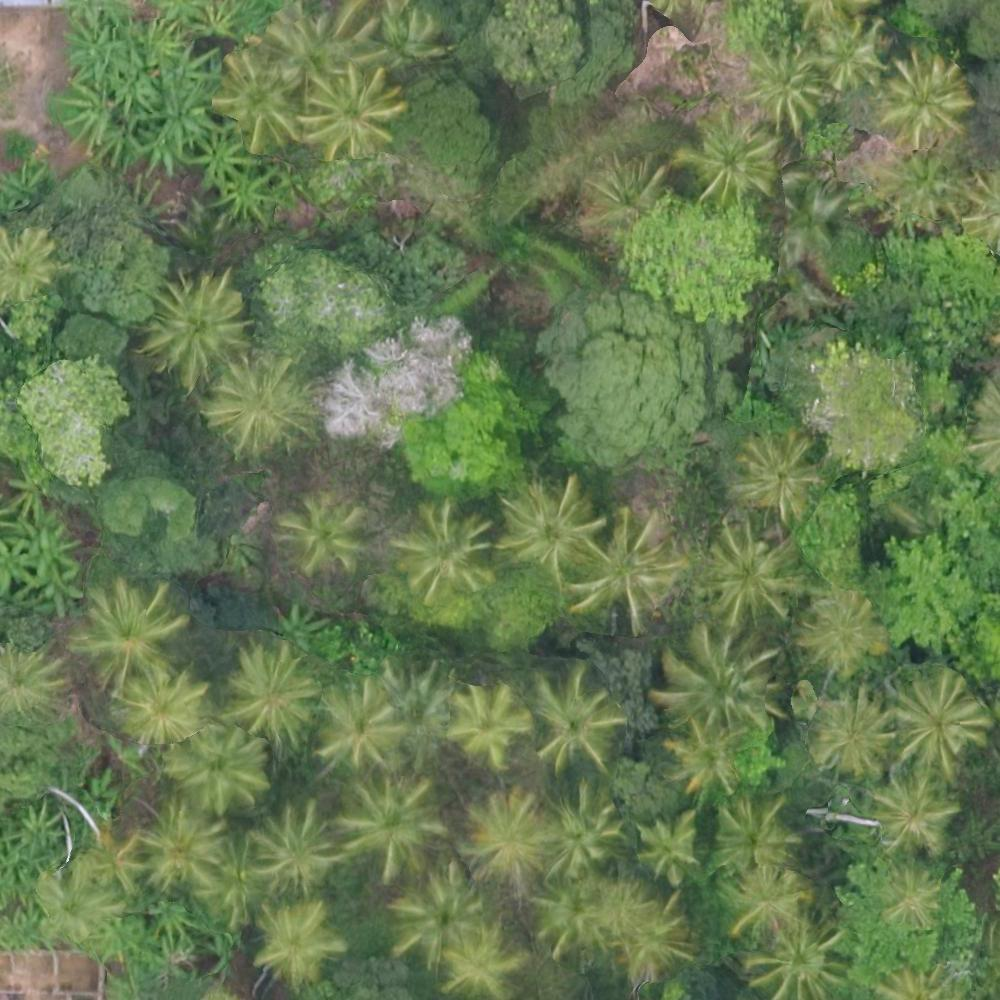Palm: (655, 624, 779, 733), (575, 510, 683, 625), (703, 517, 810, 623), (143, 271, 246, 380), (80, 579, 180, 683), (530, 663, 627, 768), (209, 354, 308, 456), (893, 667, 991, 767), (397, 500, 496, 598), (748, 907, 853, 999), (342, 778, 444, 872), (501, 478, 597, 576), (302, 64, 398, 161), (213, 51, 310, 147), (226, 643, 317, 739), (395, 868, 485, 965), (687, 114, 782, 204), (883, 49, 969, 142), (170, 723, 263, 807), (254, 901, 345, 986), (464, 789, 557, 871), (143, 802, 229, 890), (732, 429, 818, 517), (252, 802, 335, 891), (446, 682, 529, 771), (745, 45, 828, 132), (115, 661, 202, 744), (800, 586, 883, 673), (309, 686, 397, 768), (36, 863, 118, 949), (192, 839, 271, 926), (815, 688, 894, 775), (281, 494, 367, 573), (871, 772, 955, 852), (543, 781, 619, 869), (666, 716, 747, 796), (529, 871, 608, 952), (581, 159, 666, 234), (715, 792, 795, 871), (442, 926, 531, 997), (611, 901, 693, 978), (355, 6, 444, 74), (881, 145, 959, 218), (728, 867, 804, 940), (810, 18, 884, 86), (877, 865, 946, 936), (1, 647, 65, 721), (634, 812, 703, 879), (1, 228, 58, 302)
